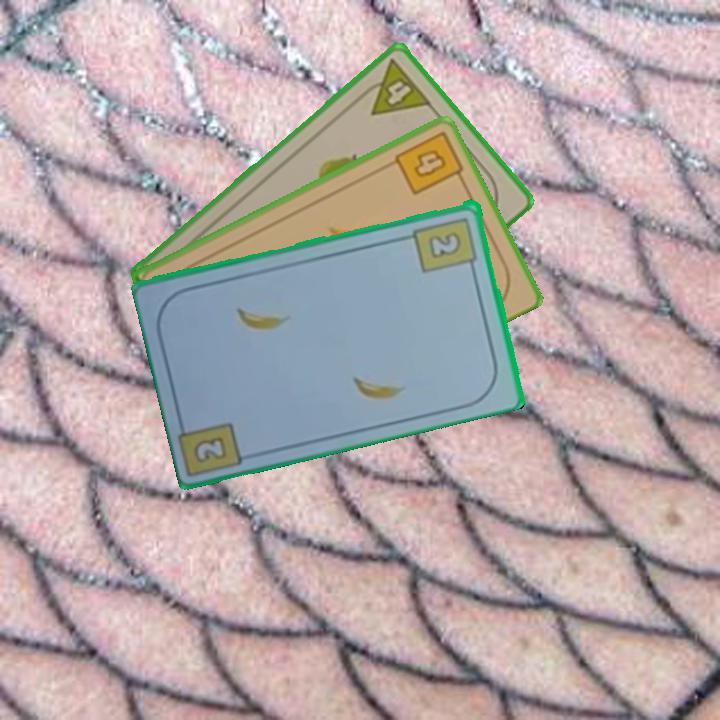2b: (410, 213, 480, 276), (190, 432, 230, 466)
4b: (390, 128, 468, 198)
4p: (354, 55, 434, 119)
